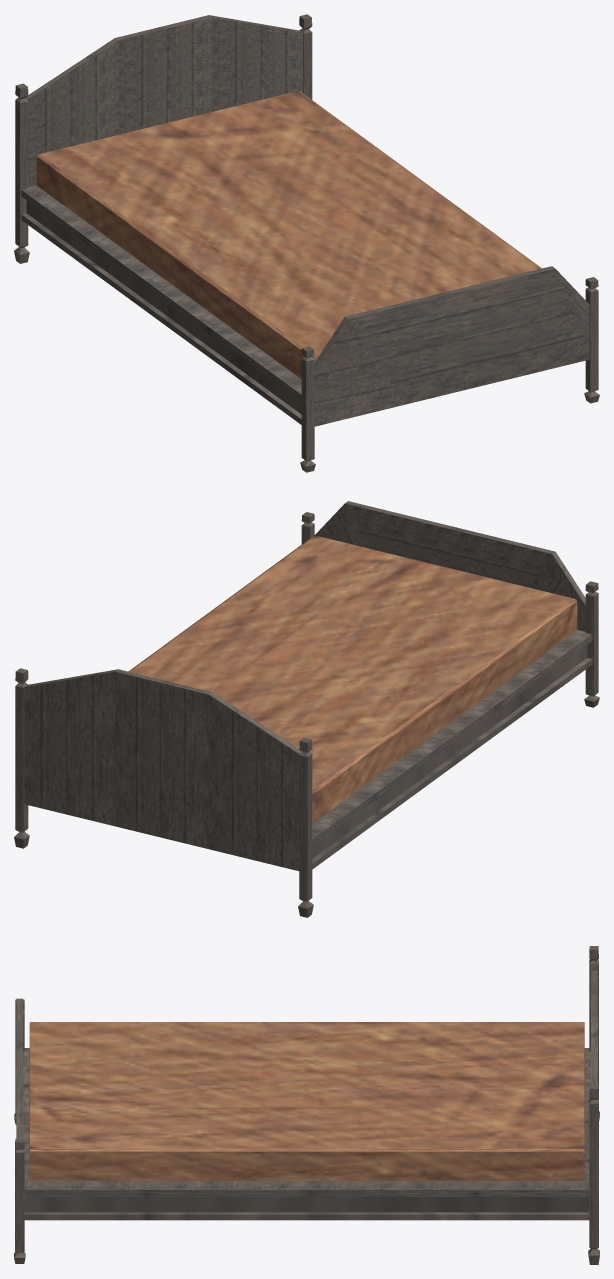
Rendered from bed(smaller).fbx.
3 renders of one model, top to bottom at view 1: azimuth 30°, elevation 25°; view 2: azimuth 150°, elevation 25°; view 3: azimuth 270°, elevation 25°, orthographic.
Parts seen in each view (by area): view 1: BED; view 2: BED; view 3: BED.
Part boxes in pixels (<box>): BED: <box>14,14,599,472</box>; BED: <box>14,501,599,917</box>; BED: <box>14,946,599,1264</box>.
Bounding box in the file's own units: 659 × 426 × 1133.
Materials: 2 (2 with a texture image).
